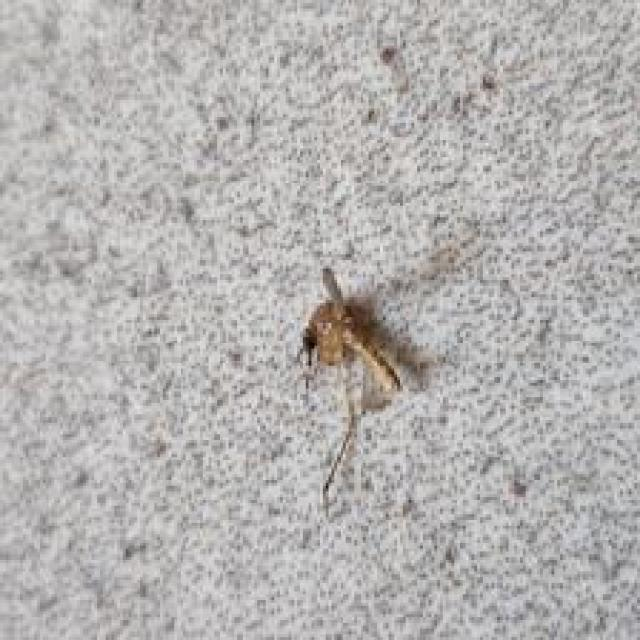Culex: (293, 263, 430, 511)
